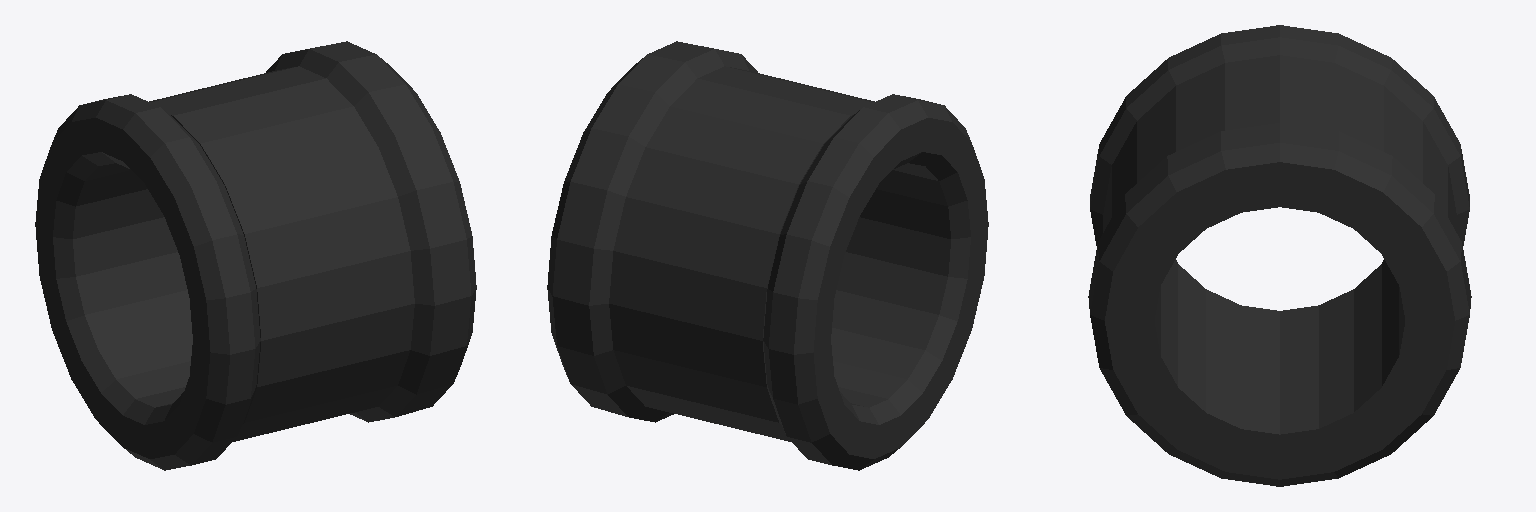
File: spring_connector.obj
3 views of the same model, side by side, from view 1: azimuth 30°, elevation 25°; view 2: azimuth 150°, elevation 25°; view 3: azimuth 270°, elevation 25° (orthographic).
Parts seen in each view (by area): view 1: pPipe9; view 2: pPipe9; view 3: pPipe9.
Part boxes in pixels (x1,y1,x2,y2): pPipe9: (35, 41, 476, 470); pPipe9: (547, 41, 988, 470); pPipe9: (1088, 25, 1471, 486).
Bounding box in the file's own units: 1.64 × 2.05 × 2.05.